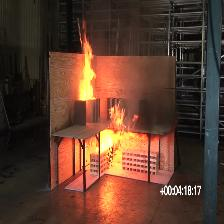fire: (101, 101, 147, 163), (79, 18, 97, 100)
